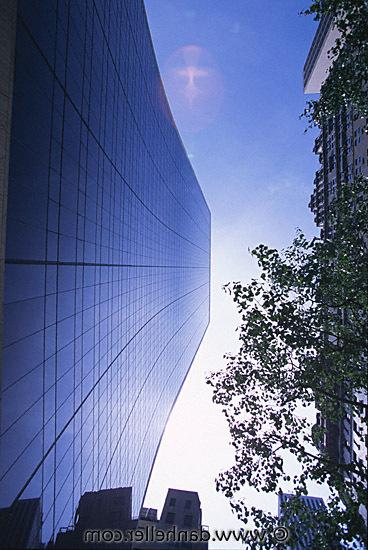building: (0, 3, 211, 550), (303, 0, 368, 550), (132, 485, 207, 550), (280, 491, 342, 550)
